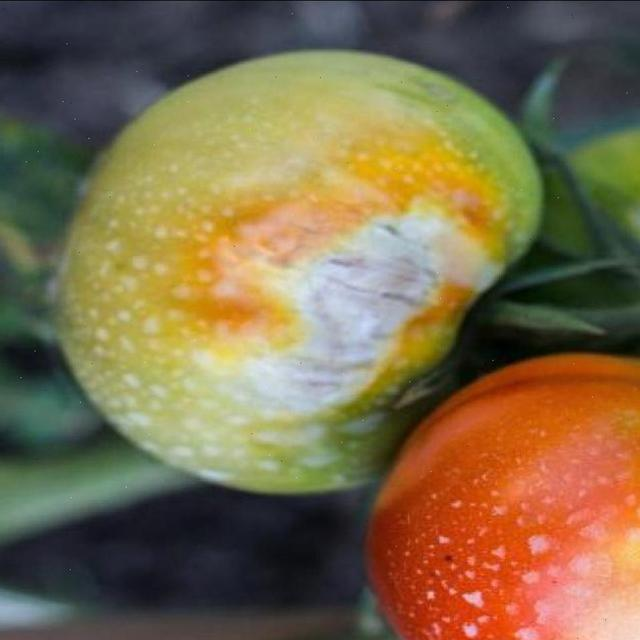Sunscald Fruit: (151, 108, 322, 288)
